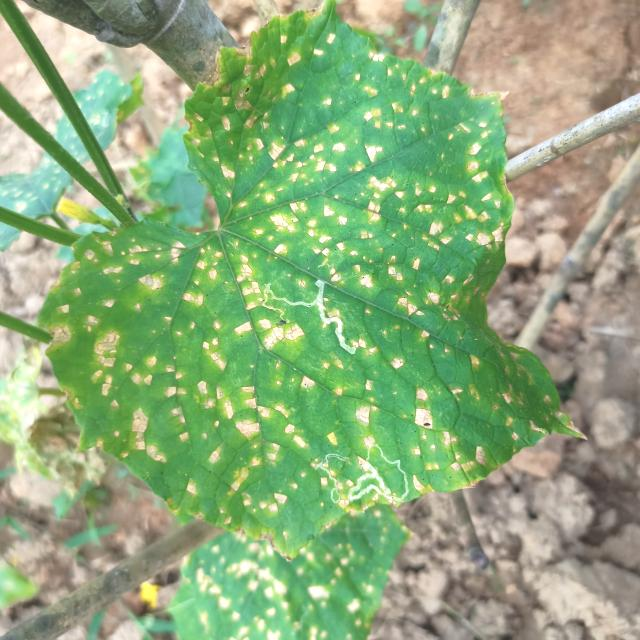disease_cucumber: (54, 52, 523, 511)
